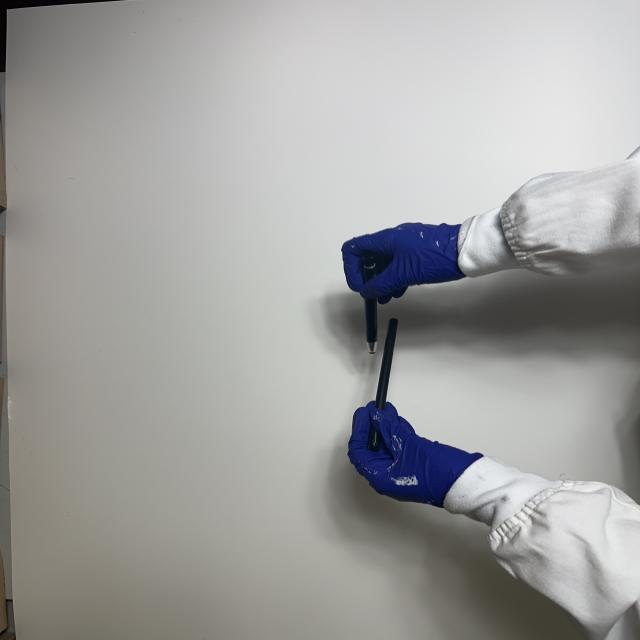gloves_contaminated: (348, 403, 482, 507), (342, 223, 464, 304)
